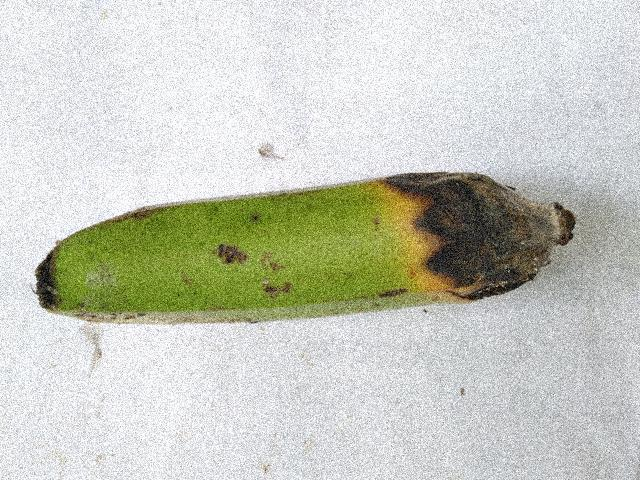rotten: (327, 153, 595, 292)
unripe: (24, 167, 368, 365)
